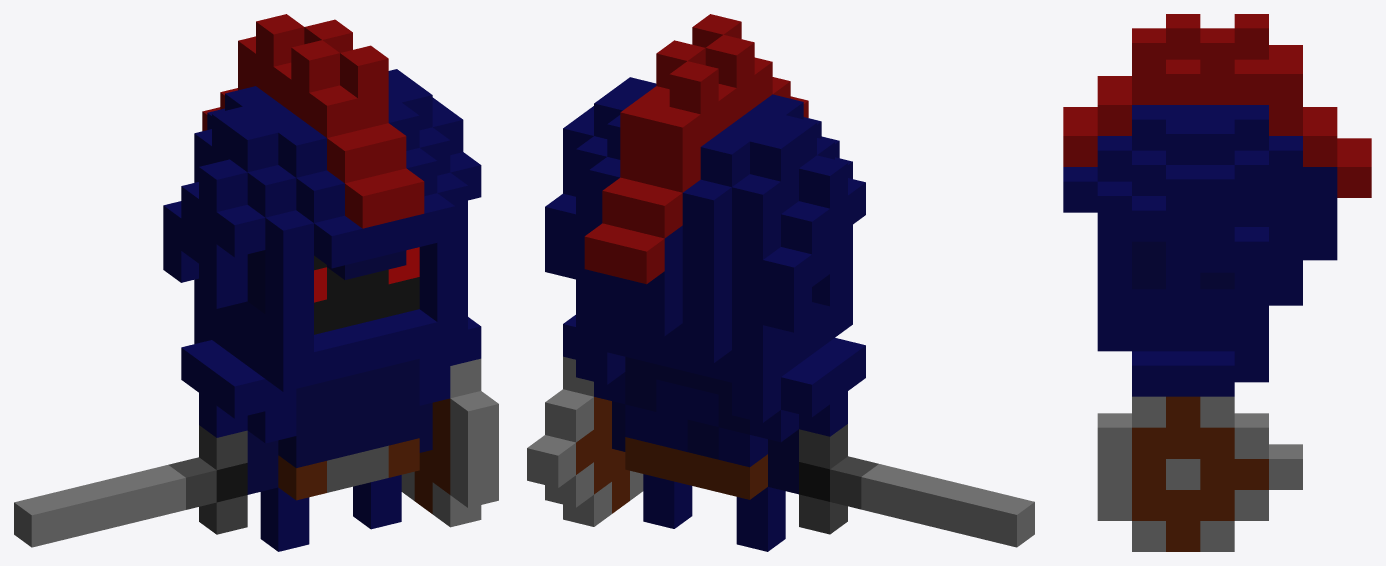
File: Kight.fbx
3 renders of one model, left to right at view 1: azimuth 30°, elevation 25°; view 2: azimuth 150°, elevation 25°; view 3: azimuth 270°, elevation 25°, orthographic. The views are drawn at different scales.
Visible parts, largest first — view 1: Knight; view 2: Knight; view 3: Knight.
Part boxes in pixels (<box>): Knight: <box>14,14,498,551</box>; Knight: <box>527,14,1034,551</box>; Knight: <box>1063,14,1371,551</box>.
Size of the model in its own units: 140 by 150 by 90.
